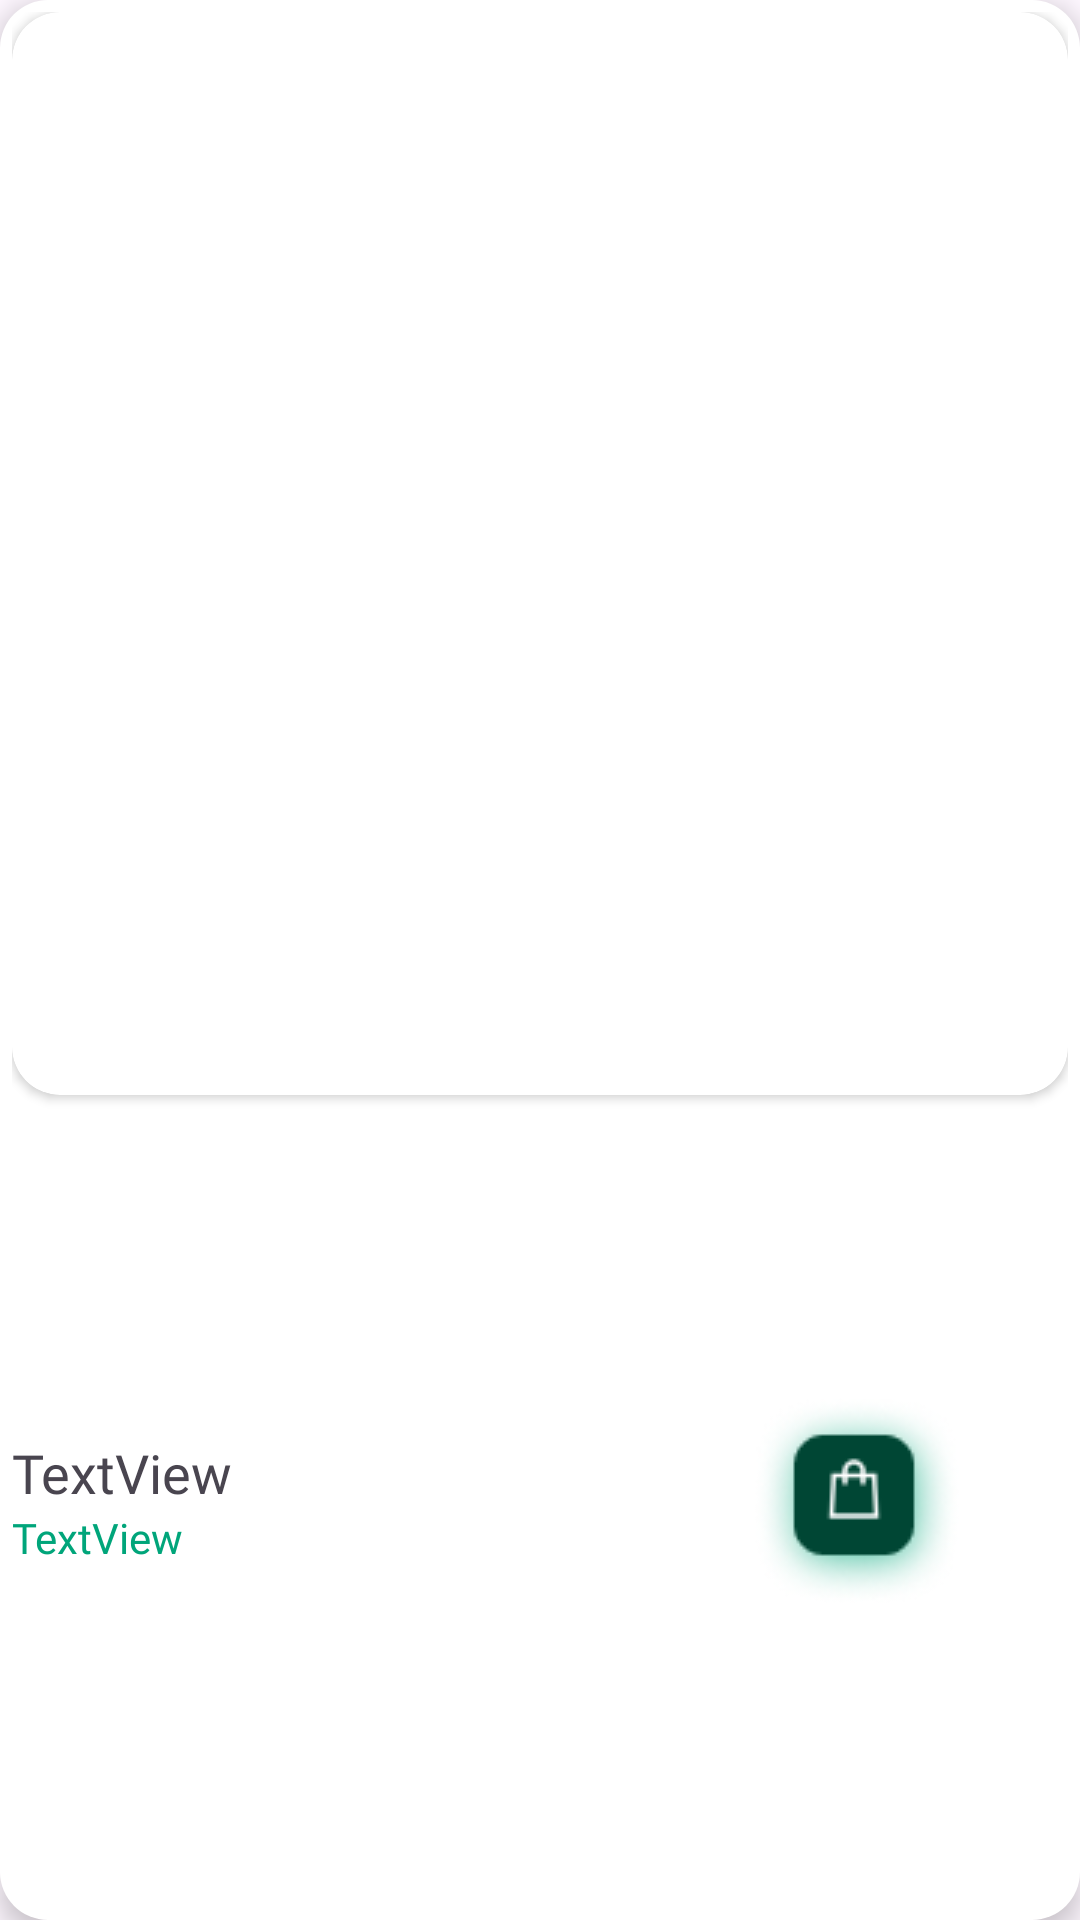

Named icons in this screenshot (1080w x 1920h) and their bounding boxes, (x1, y1, x2, y2):
shop: (776, 1420, 938, 1582)
